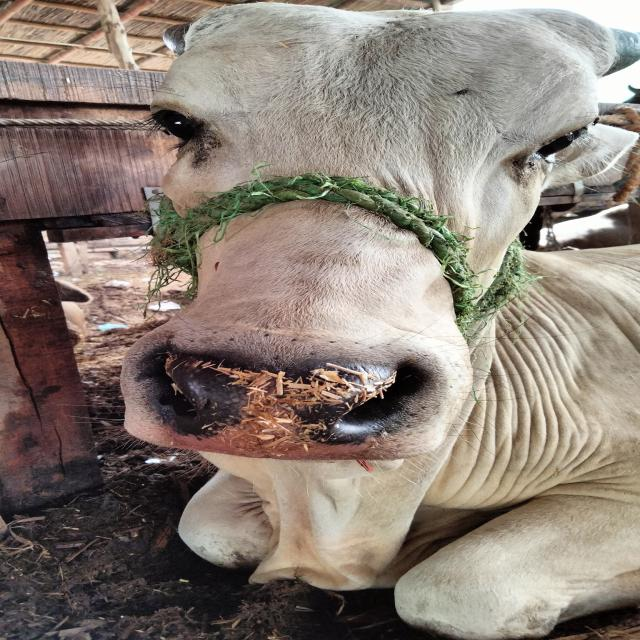muzzles: (123, 332, 439, 467)
